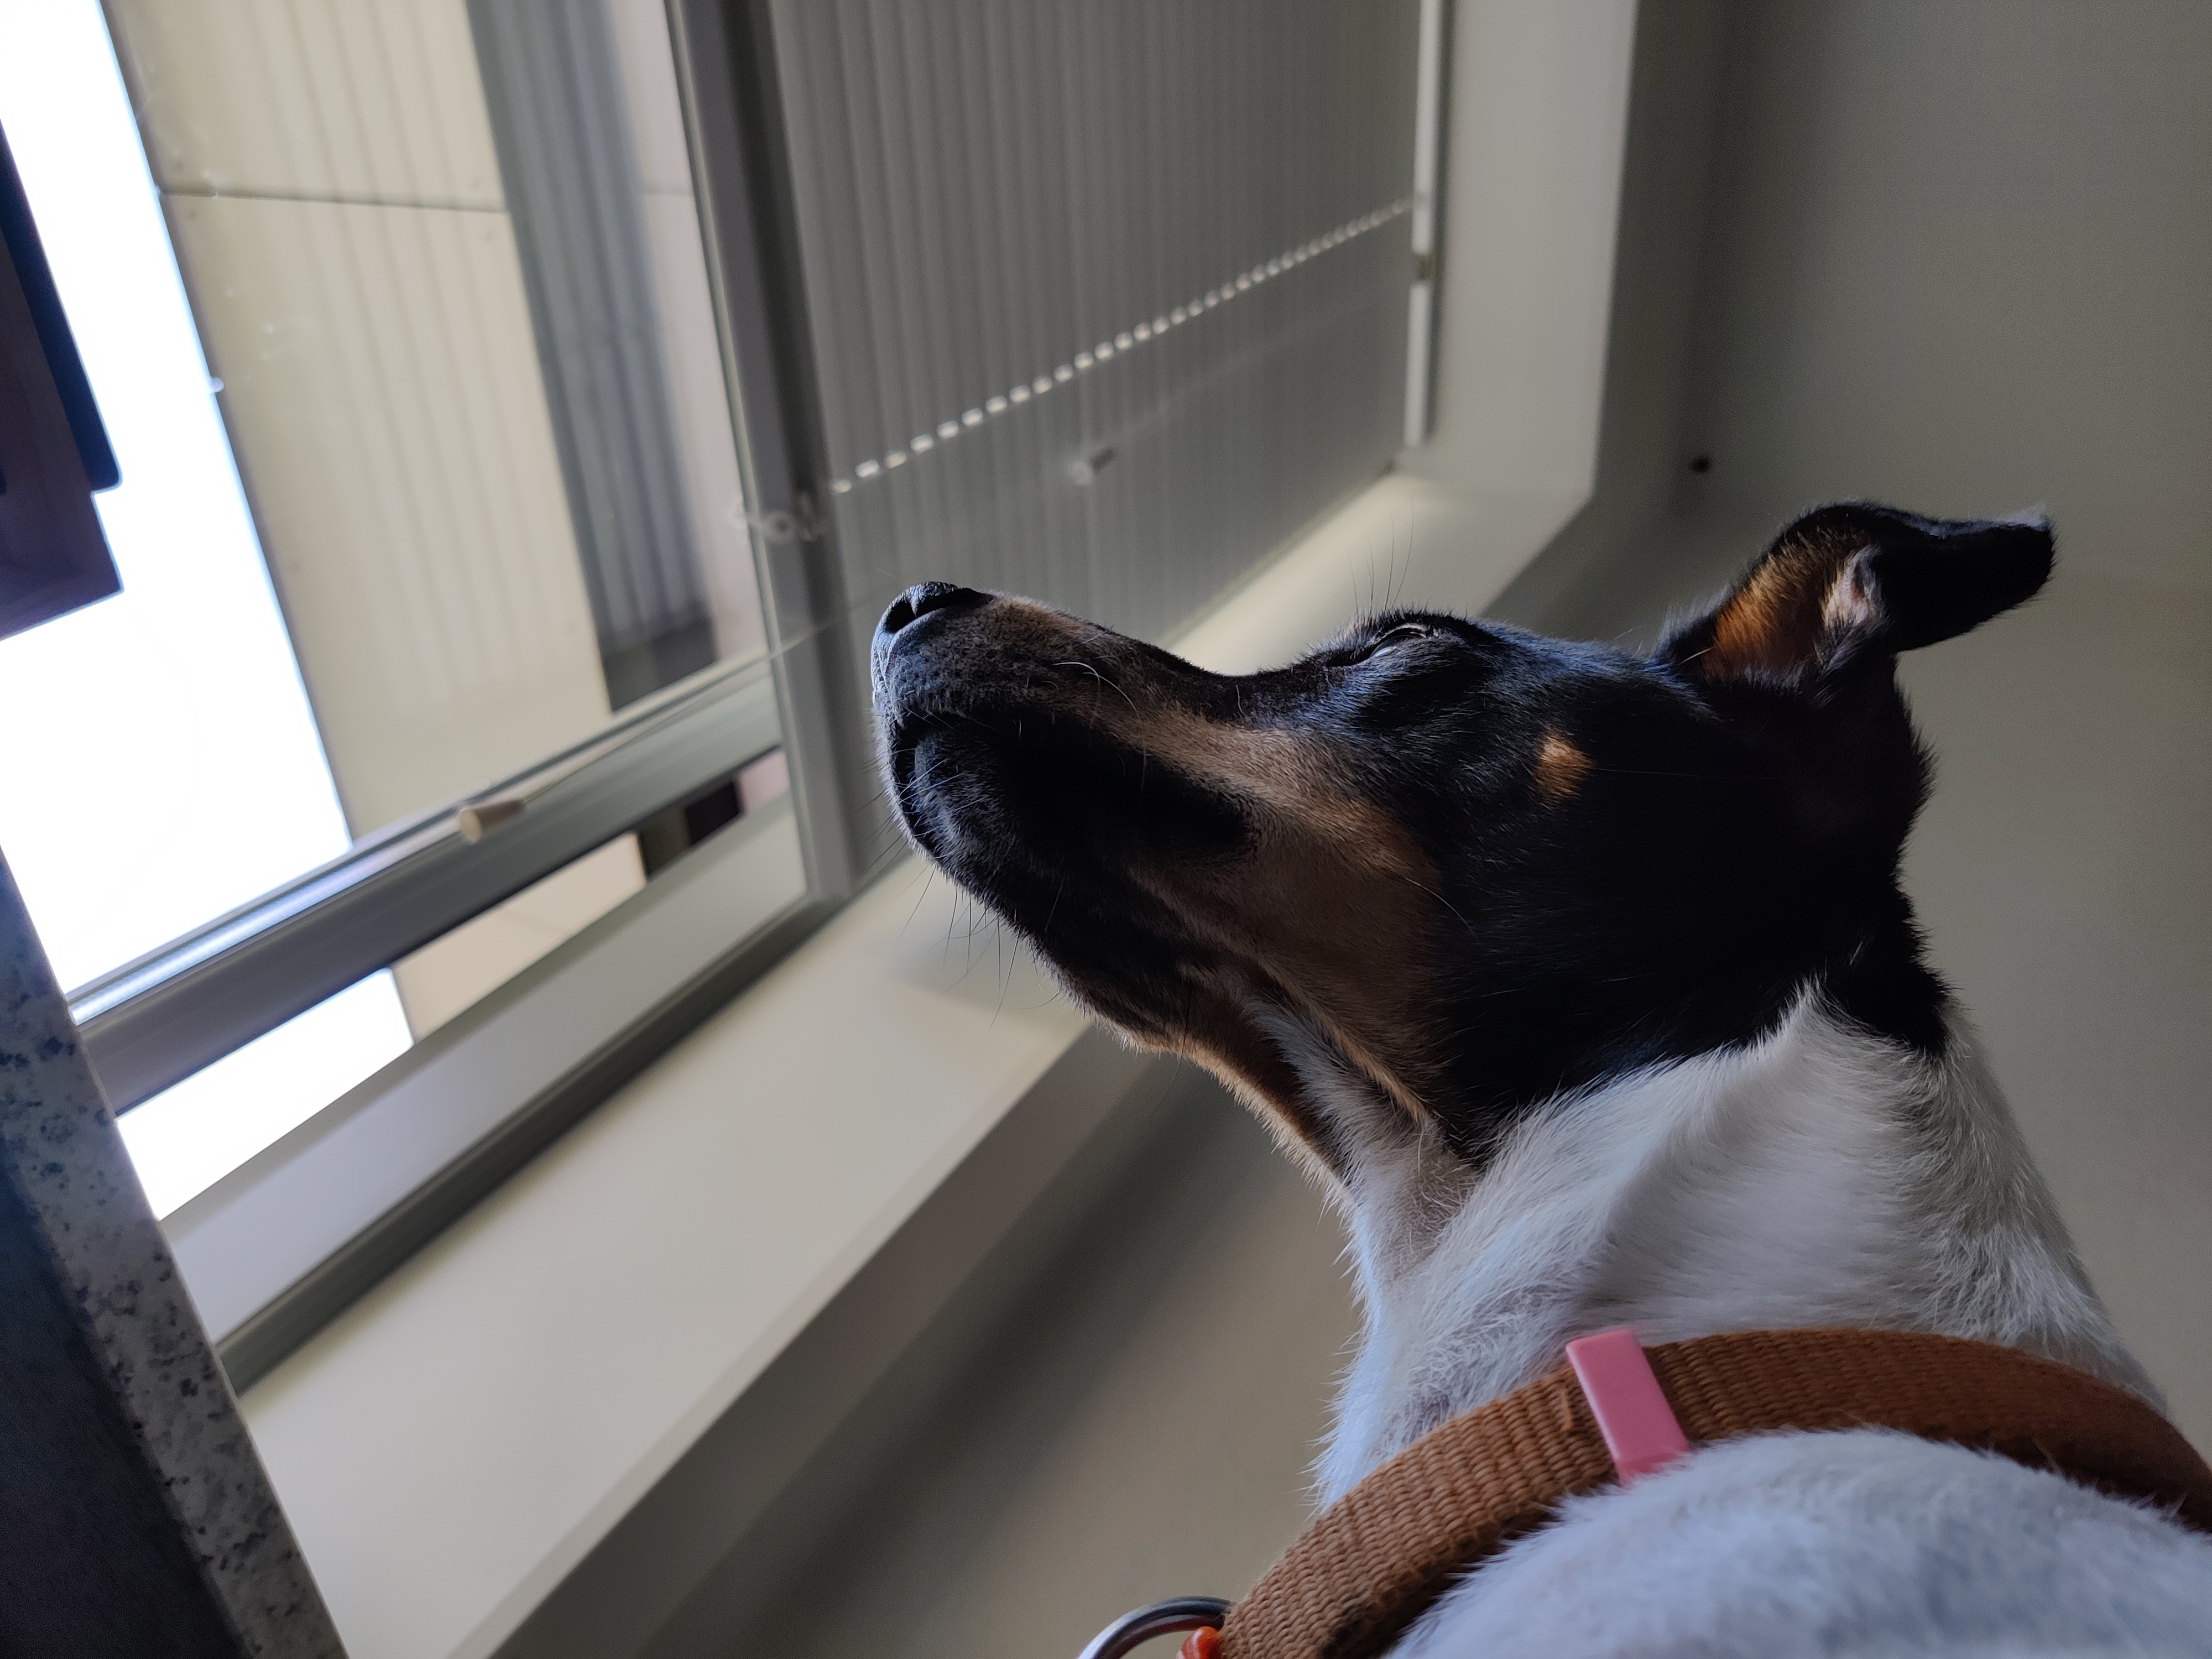Dog: (857, 481, 2212, 1659)
